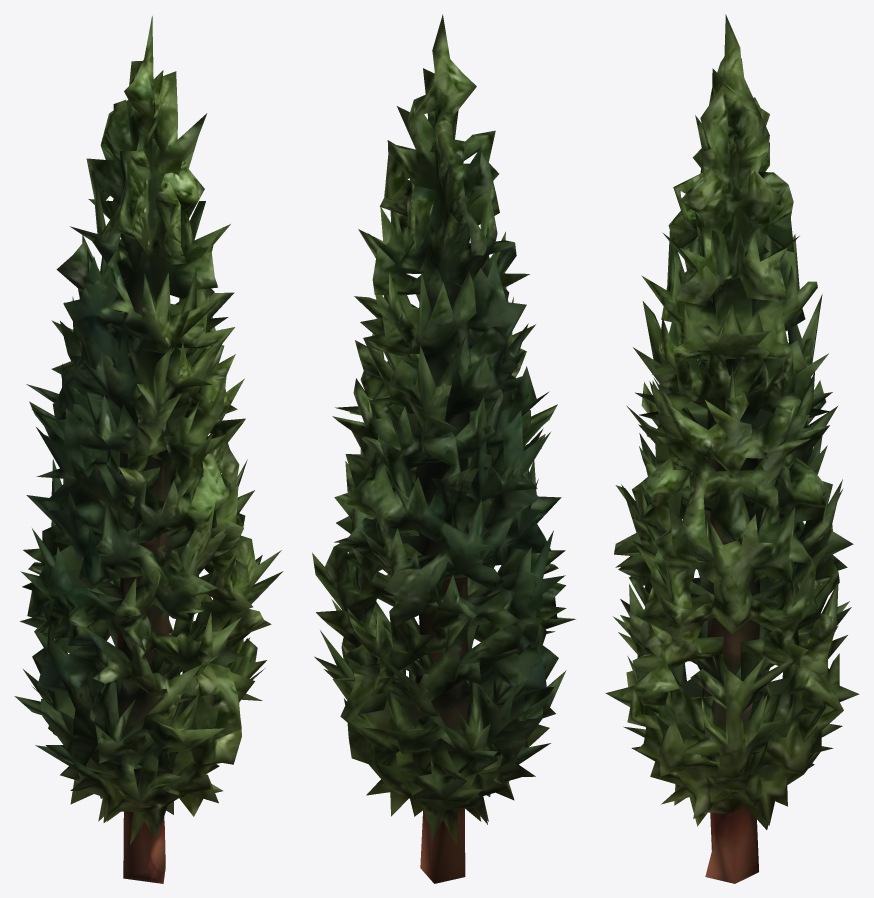
File: cypress.glb
The picture shows the model from 3 angles, left to right: view 1: azimuth 30°, elevation 25°; view 2: azimuth 150°, elevation 25°; view 3: azimuth 270°, elevation 25°; orthographic projection.
Visible parts, largest first — view 1: tripo_node_43cf9866-cf79-4e47-bb6f-5b4b75daba57; view 2: tripo_node_43cf9866-cf79-4e47-bb6f-5b4b75daba57; view 3: tripo_node_43cf9866-cf79-4e47-bb6f-5b4b75daba57.
Boxes of the visible parts, bbox=[...] form: tripo_node_43cf9866-cf79-4e47-bb6f-5b4b75daba57: bbox=[14, 16, 283, 883]; tripo_node_43cf9866-cf79-4e47-bb6f-5b4b75daba57: bbox=[312, 14, 575, 883]; tripo_node_43cf9866-cf79-4e47-bb6f-5b4b75daba57: bbox=[605, 14, 859, 883].
Size of the model in its own units: 0.2766 by 1 by 0.2674.
1 material, 1 textured.
